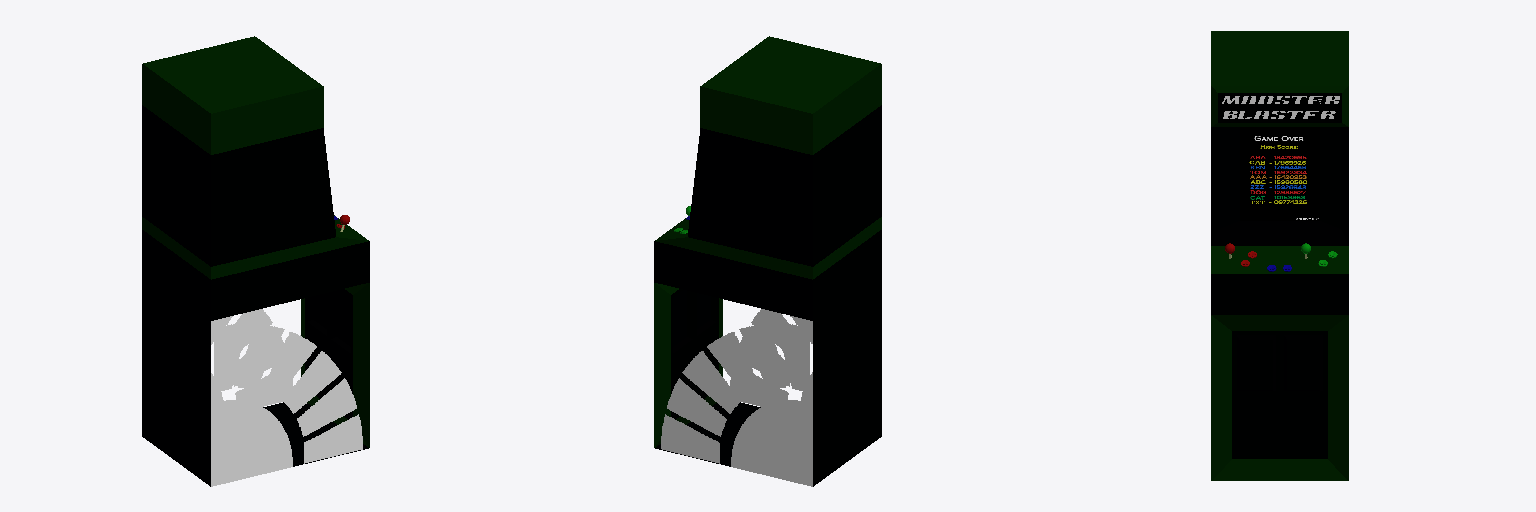
3 renders of one model, left to right at view 1: azimuth 30°, elevation 25°; view 2: azimuth 150°, elevation 25°; view 3: azimuth 270°, elevation 25°, orthographic.
Visible parts, largest first — view 1: Arcade_Body_Cube; view 2: Arcade_Body_Cube; view 3: Arcade_Body_Cube.
Boxes of the visible parts, box(x1,y1,x2,y2) form: Arcade_Body_Cube: box(142, 36, 369, 486); Arcade_Body_Cube: box(654, 36, 881, 486); Arcade_Body_Cube: box(1211, 31, 1348, 480).
Bounding box in the file's own units: 0.8 × 1.8 × 0.6.
9 materials, 1 textured.